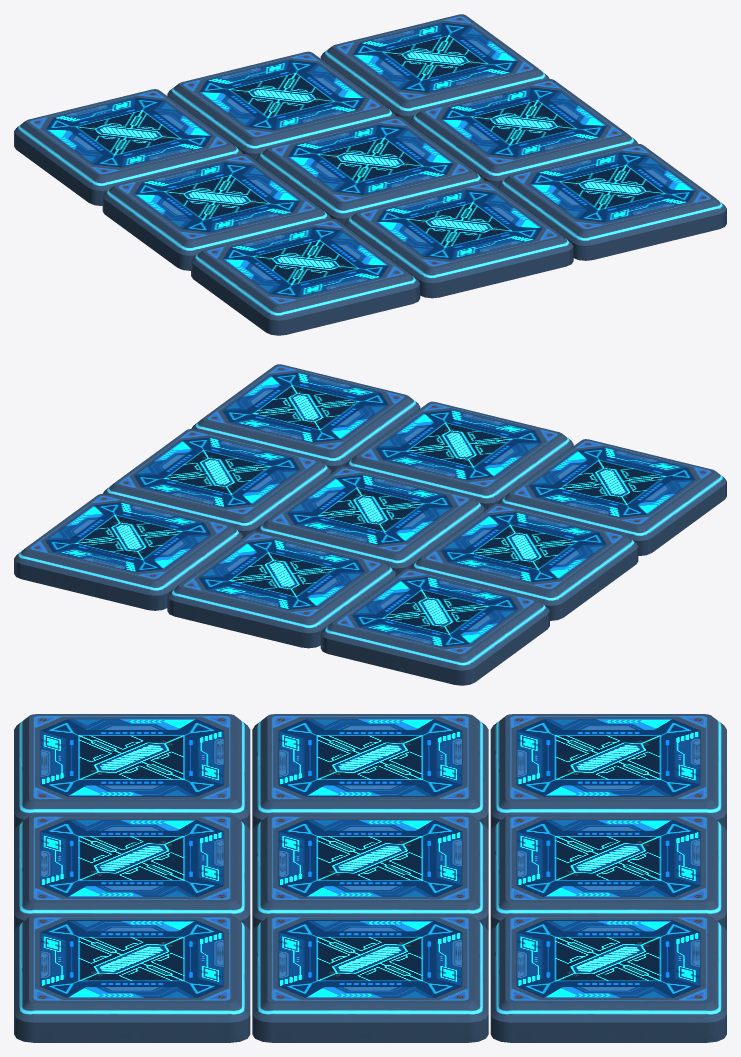
File: ARC1110056.fbx
3 renders of one model, top to bottom at view 1: azimuth 30°, elevation 25°; view 2: azimuth 150°, elevation 25°; view 3: azimuth 270°, elevation 25°, orthographic. The views are drawn at different scales.
Parts seen in each view (by area): view 1: smARC1110056; view 2: smARC1110056; view 3: smARC1110056.
Part boxes in pixels (x1,y1,x2,y2): smARC1110056: (14,14,726,335); smARC1110056: (14,364,726,685); smARC1110056: (14,714,726,1042).
Bounding box in the file's own units: 598 × 31.27 × 598.
1 material, 1 textured.
